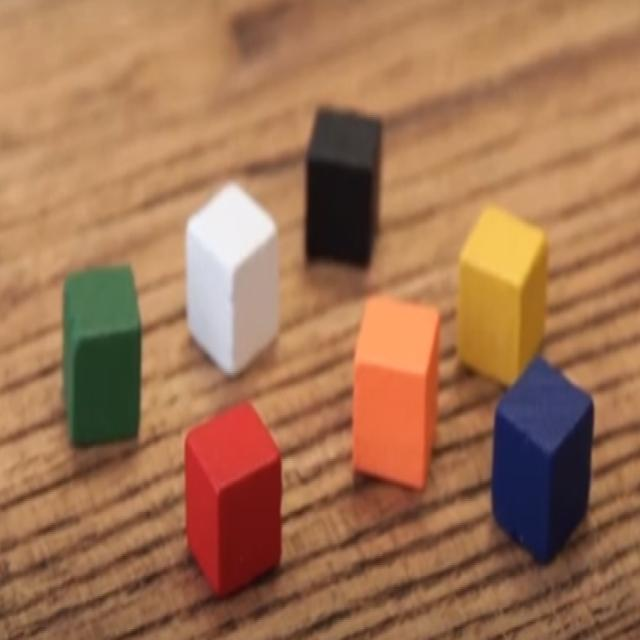bluecube: (491, 354, 596, 564)
green cube: (62, 265, 142, 443)
red cube: (184, 397, 283, 602)
